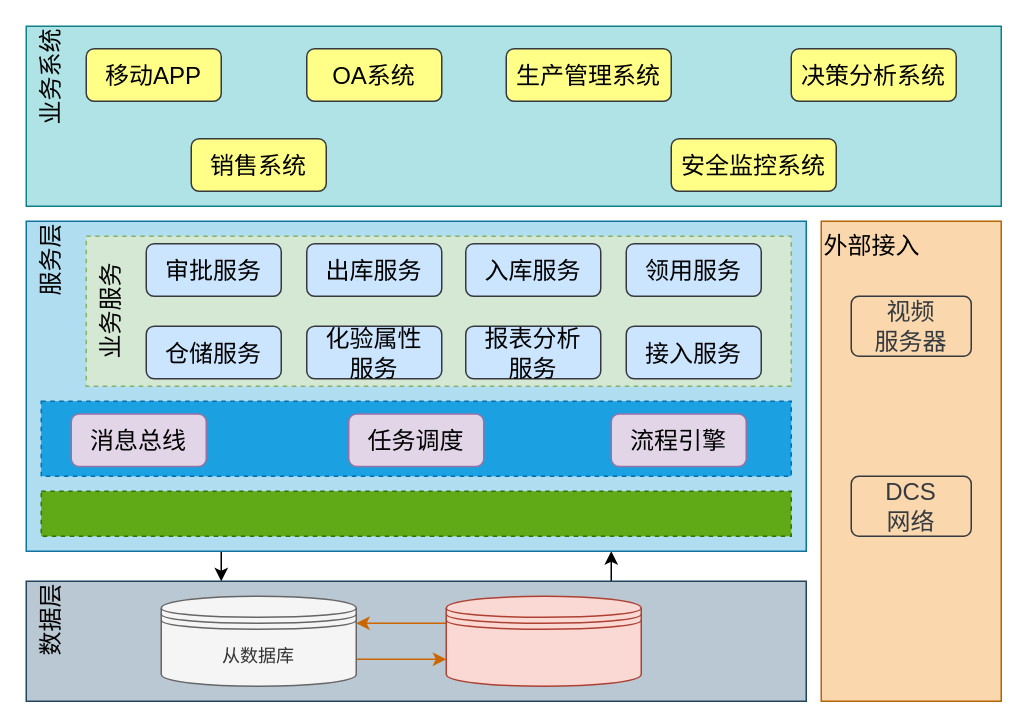
Image size: 1028x728. Some labels were removed from this diagram. Each missing label, with the centre of its shape:
"java、netty、websocket，restful" belongs at (x=415, y=513).
"主数据库" belongs at (x=543, y=640).
